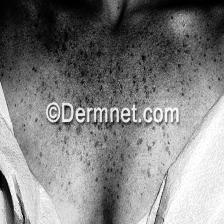Benign Marking or Mole: (19, 30, 200, 104), (36, 125, 170, 196)
